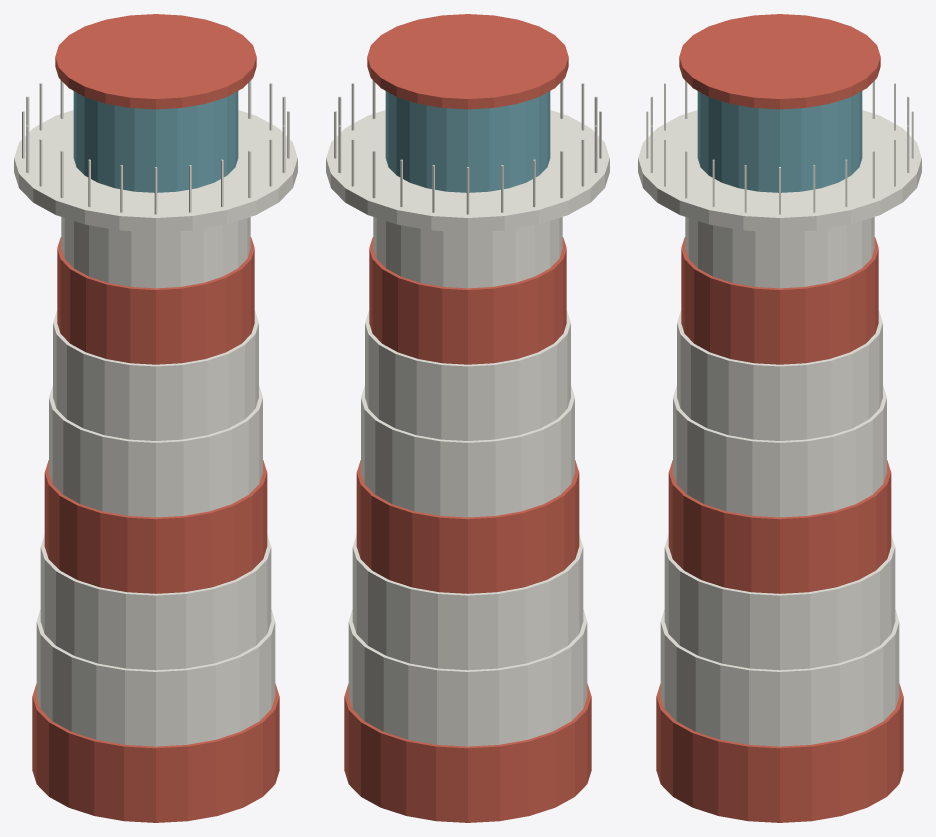
File: lighthouse.glb
The picture shows the model from 3 angles, left to right: view 1: azimuth 30°, elevation 25°; view 2: azimuth 150°, elevation 25°; view 3: azimuth 270°, elevation 25°; orthographic projection.
Visible parts, largest first — view 1: Tower course, Tower course.001, Tower course.002, Tower course.003, Tower course.004, Lantern platform, Tower course.005, Lantern roof, Tower course.006, Lantern glazing, Tower course.007; view 2: Tower course, Tower course.001, Tower course.002, Tower course.003, Tower course.004, Lantern platform, Tower course.005, Lantern roof, Tower course.006, Lantern glazing, Tower course.007; view 3: Tower course, Tower course.001, Tower course.002, Tower course.003, Tower course.004, Lantern platform, Tower course.005, Lantern roof, Tower course.006, Lantern glazing, Tower course.007.
Boxes of the visible parts, x1,y1,x2,y2 form: Tower course: (32, 683, 279, 822); Tower course.001: (36, 609, 275, 746); Tower course.002: (40, 535, 271, 670); Tower course.003: (44, 460, 267, 593); Tower course.004: (49, 386, 262, 517); Lantern platform: (14, 110, 297, 232); Tower course.005: (53, 311, 258, 440); Lantern roof: (55, 14, 256, 109); Tower course.006: (57, 237, 254, 364); Lantern glazing: (73, 91, 238, 192); Tower course.007: (61, 217, 250, 288); Tower course: (344, 683, 591, 822); Tower course.001: (348, 609, 587, 746); Tower course.002: (352, 535, 583, 670); Tower course.003: (356, 460, 579, 593); Tower course.004: (361, 386, 574, 517); Lantern platform: (326, 110, 609, 232); Tower course.005: (365, 311, 570, 440); Lantern roof: (367, 14, 568, 109); Tower course.006: (369, 237, 566, 364); Lantern glazing: (385, 91, 550, 192); Tower course.007: (373, 217, 562, 288); Tower course: (656, 683, 903, 822); Tower course.001: (660, 609, 899, 746); Tower course.002: (664, 535, 895, 670); Tower course.003: (668, 460, 891, 593); Tower course.004: (673, 386, 886, 517); Lantern platform: (638, 110, 921, 232); Tower course.005: (677, 311, 882, 440); Lantern roof: (679, 14, 880, 109); Tower course.006: (681, 237, 878, 364); Lantern glazing: (697, 91, 862, 192); Tower course.007: (685, 217, 874, 288).
Size of the model in its own units: 6.2 by 17.23 by 6.2.
